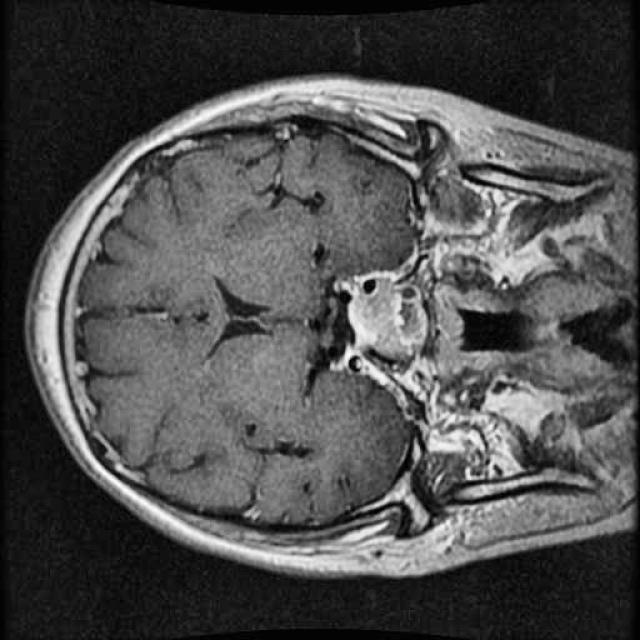Tumor: (339, 261, 444, 368)
